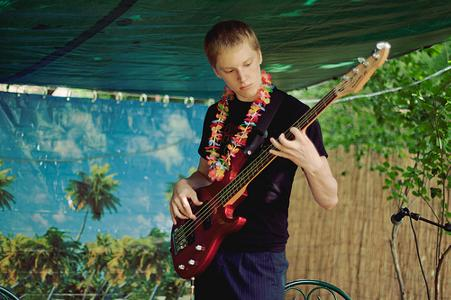person: (169, 20, 339, 299)
